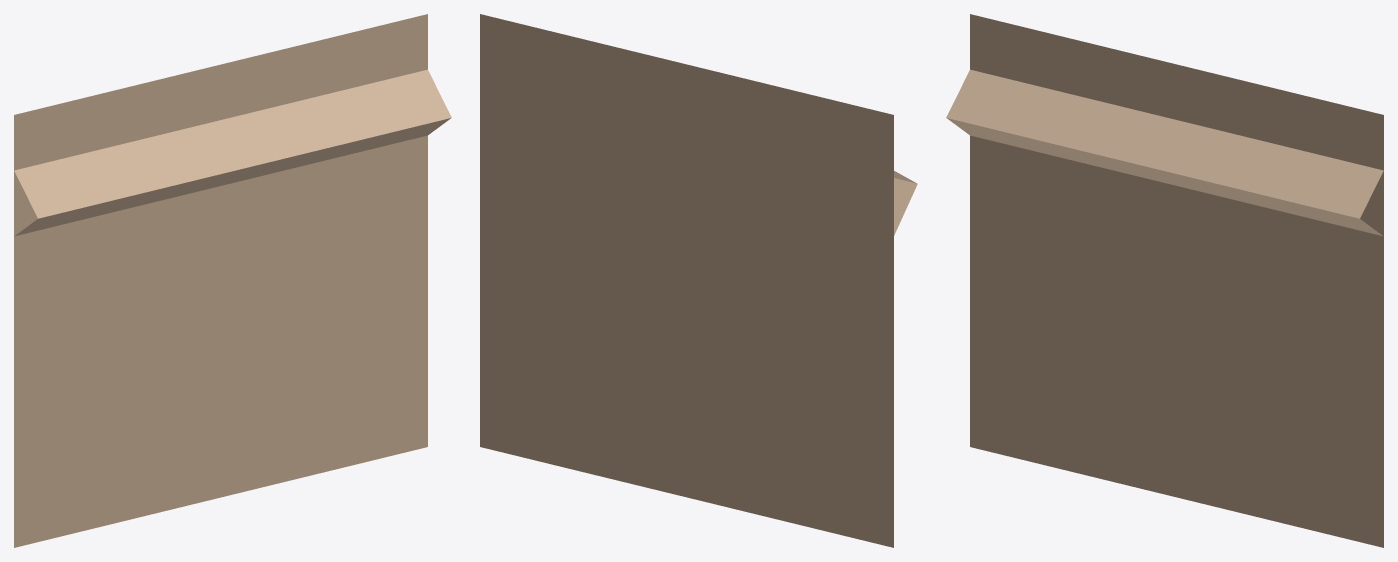
Rendered from google_earth_terrain_002.obj.
3 renders of one model, left to right at view 1: azimuth 30°, elevation 25°; view 2: azimuth 150°, elevation 25°; view 3: azimuth 330°, elevation 25°, orthographic.
Visible parts, largest first — view 1: MeshGroup_32, MeshGroup_323, MeshGroup_31, MeshGroup_322, MeshGroup_312, MeshGroup_313, MeshGroup_321, MeshGroup_320, MeshGroup_310, MeshGroup_311; view 2: MeshGroup_32, MeshGroup_31, MeshGroup_323, MeshGroup_322, MeshGroup_311, MeshGroup_321, MeshGroup_310, MeshGroup_320, MeshGroup_313; view 3: MeshGroup_32, MeshGroup_323, MeshGroup_31, MeshGroup_322, MeshGroup_313, MeshGroup_312, MeshGroup_321, MeshGroup_320, MeshGroup_310, MeshGroup_311.
Part boxes in pixels (x1,y1,x2,y2): MeshGroup_32: (14,135,427,547); MeshGroup_323: (14,289,220,547); MeshGroup_31: (14,14,427,236); MeshGroup_322: (221,241,427,496); MeshGroup_312: (221,69,451,185); MeshGroup_313: (14,120,244,235); MeshGroup_321: (221,136,427,285); MeshGroup_320: (14,187,220,330); MeshGroup_310: (14,65,220,169); MeshGroup_311: (221,14,427,119); MeshGroup_32: (480,135,893,547); MeshGroup_31: (480,14,893,236); MeshGroup_323: (687,291,893,547); MeshGroup_322: (480,239,686,496); MeshGroup_311: (480,15,686,119); MeshGroup_321: (480,136,686,280); MeshGroup_310: (687,65,893,169); MeshGroup_320: (687,186,893,336); MeshGroup_313: (894,171,917,235); MeshGroup_32: (970,135,1383,547); MeshGroup_323: (970,239,1176,496); MeshGroup_31: (970,14,1383,236); MeshGroup_322: (1177,290,1383,542); MeshGroup_313: (946,69,1176,185); MeshGroup_312: (1153,120,1383,235); MeshGroup_321: (1177,186,1383,323); MeshGroup_320: (970,136,1176,284); MeshGroup_310: (970,14,1176,119); MeshGroup_311: (1177,65,1383,169).
Size of the model in its own units: 1000 by 1000 by 100.
